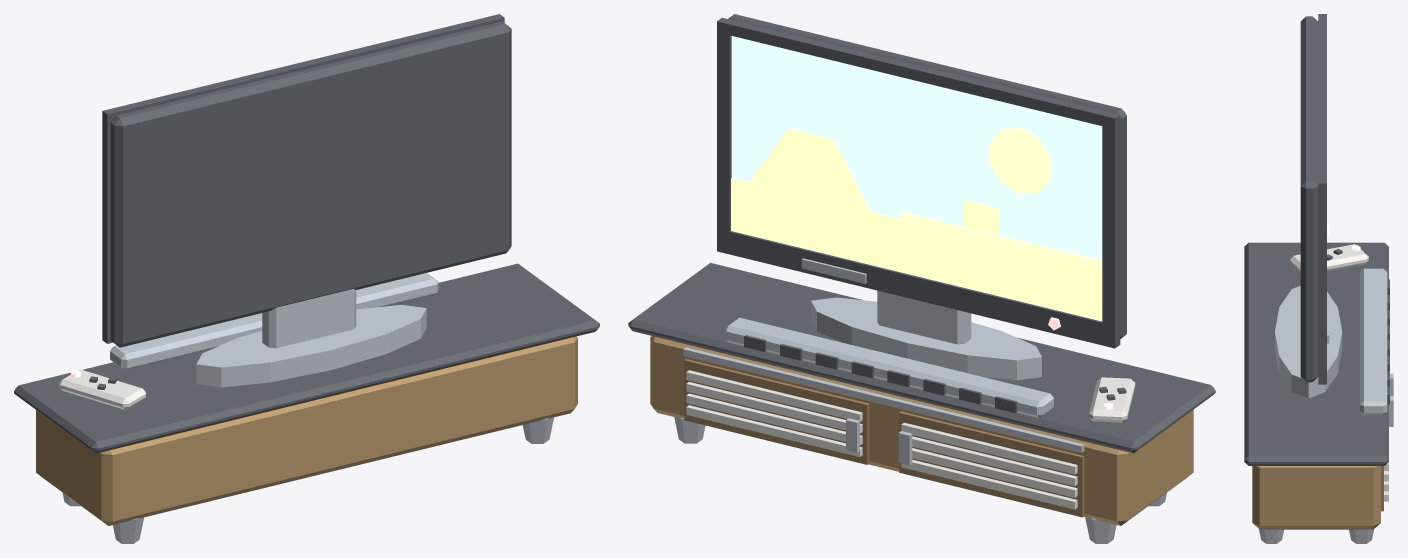
3 renders of one model, left to right at view 1: azimuth 30°, elevation 25°; view 2: azimuth 150°, elevation 25°; view 3: azimuth 270°, elevation 25°, orthographic. The views are drawn at different scales.
Parts seen in each view (by area): view 1: TV.Panel, TV.Cabinet, TV.ConsoleTop, TV.Stand, TV.Soundbar, TV.Remote, TV.Metalwork; view 2: TV.ScreenSky, TV.Panel, TV.ScreenLand, TV.ConsoleTop, TV.Doors, TV.Cabinet, TV.Stand, TV.DoorRecess, TV.Soundbar, TV.Metalwork, TV.ScreenSun, TV.BlackTrim (+1 smaller); view 3: TV.ConsoleTop, TV.Panel, TV.Cabinet, TV.Soundbar, TV.Stand, TV.Remote, TV.Metalwork, TV.BlackTrim.
Part boxes in pixels (bbox=[...]): TV.Panel: bbox=[102, 14, 511, 347]; TV.Cabinet: bbox=[36, 336, 577, 525]; TV.ConsoleTop: bbox=[14, 263, 599, 453]; TV.Stand: bbox=[196, 288, 426, 387]; TV.Soundbar: bbox=[110, 273, 438, 370]; TV.Remote: bbox=[59, 369, 145, 409]; TV.Metalwork: bbox=[62, 417, 553, 543]; TV.ScreenSky: bbox=[731, 36, 1102, 260]; TV.Panel: bbox=[717, 14, 1126, 348]; TV.ScreenLand: bbox=[731, 128, 1102, 321]; TV.ConsoleTop: bbox=[628, 263, 1215, 453]; TV.Doors: bbox=[686, 370, 1077, 509]; TV.Cabinet: bbox=[650, 336, 1193, 525]; TV.Stand: bbox=[801, 258, 1041, 380]; TV.DoorRecess: bbox=[684, 359, 1085, 517]; TV.Soundbar: bbox=[724, 317, 1053, 417]; TV.Metalwork: bbox=[674, 347, 1166, 543]; TV.ScreenSun: bbox=[900, 127, 1102, 269]; TV.BlackTrim: bbox=[744, 335, 1126, 413]; TV.ConsoleTop: bbox=[1244, 242, 1388, 465]; TV.Panel: bbox=[1300, 14, 1326, 384]; TV.Cabinet: bbox=[1252, 466, 1380, 529]; TV.Soundbar: bbox=[1360, 268, 1387, 415]; TV.Stand: bbox=[1274, 286, 1342, 398]; TV.Remote: bbox=[1289, 244, 1368, 272]; TV.Metalwork: bbox=[1259, 373, 1393, 543]; TV.BlackTrim: bbox=[1327, 249, 1389, 404].
Size of the model in its own units: 6.4 by 4.86 by 1.86.
